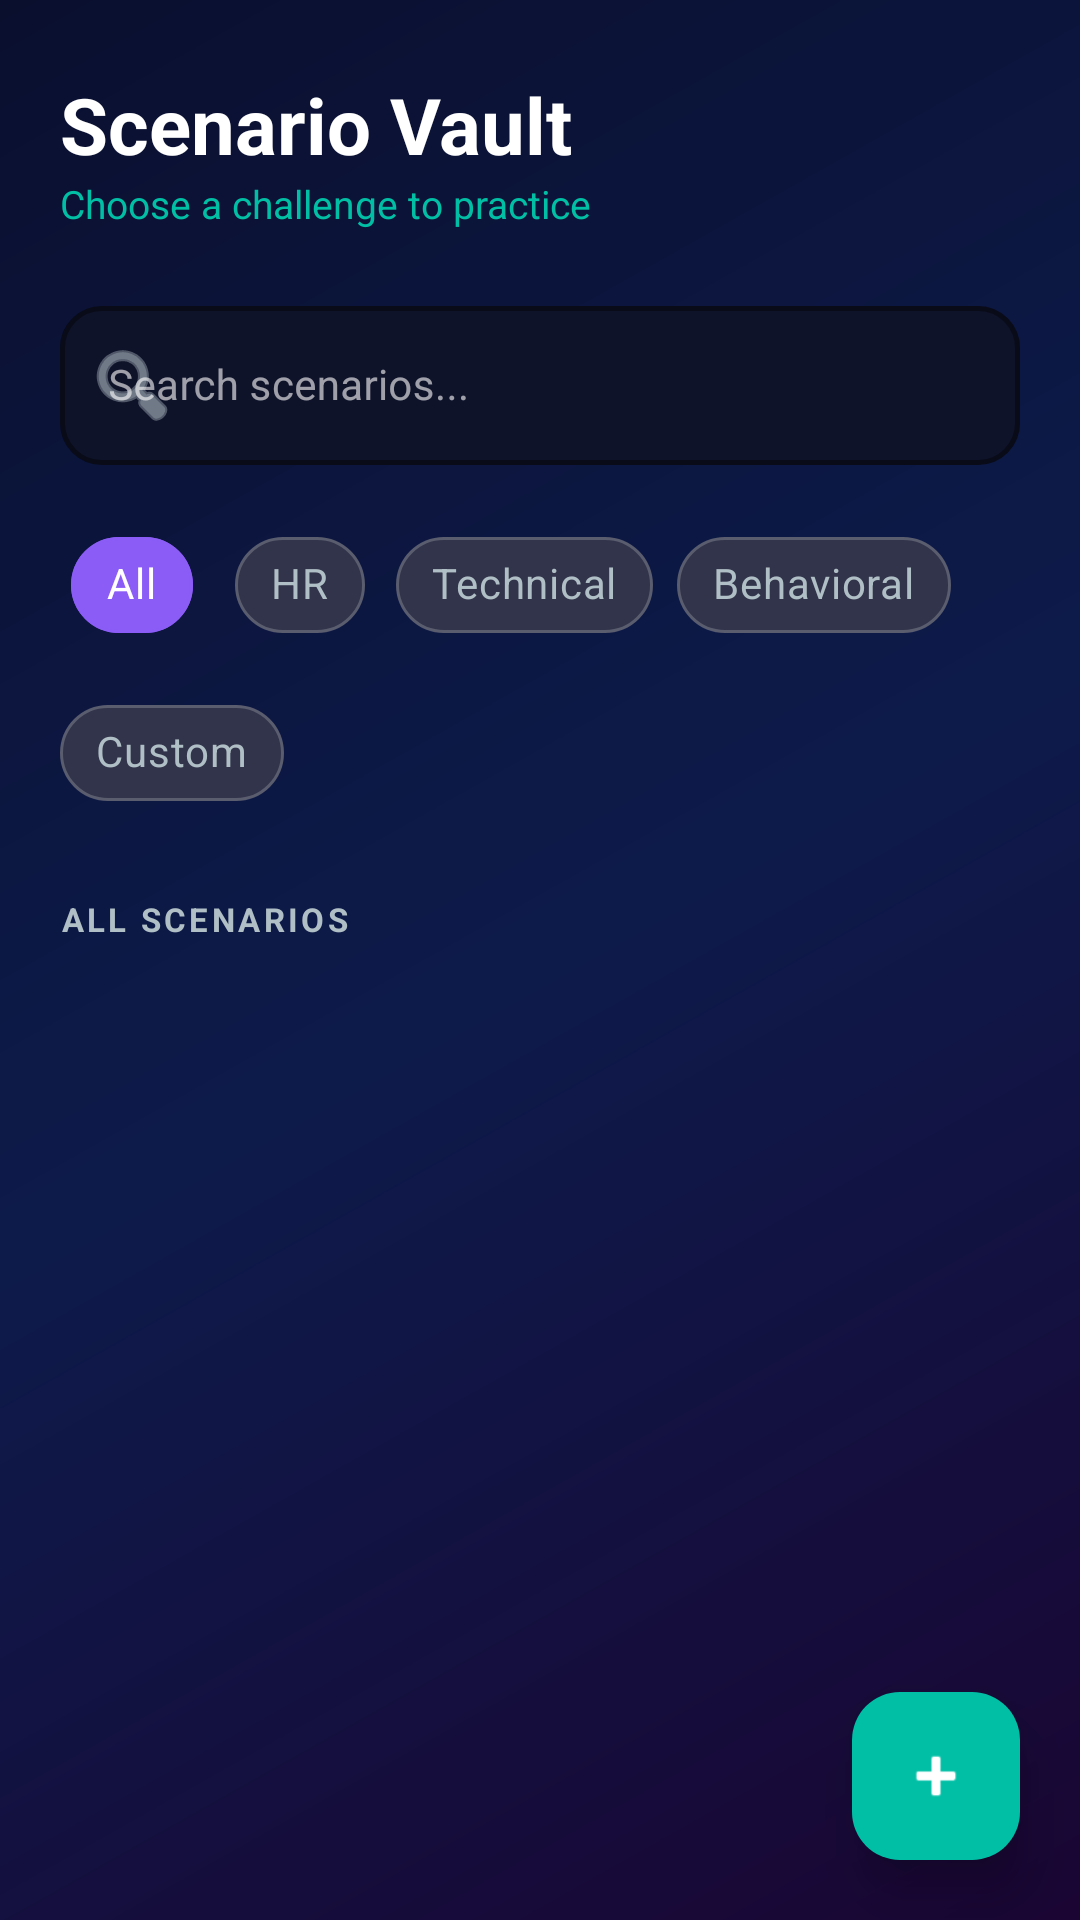

Screen size 1080px x 1920px. Icon name, then its box in pixels as (x1, y1, x2, y2):
Create Scenario: (852, 1692, 1020, 1860)
